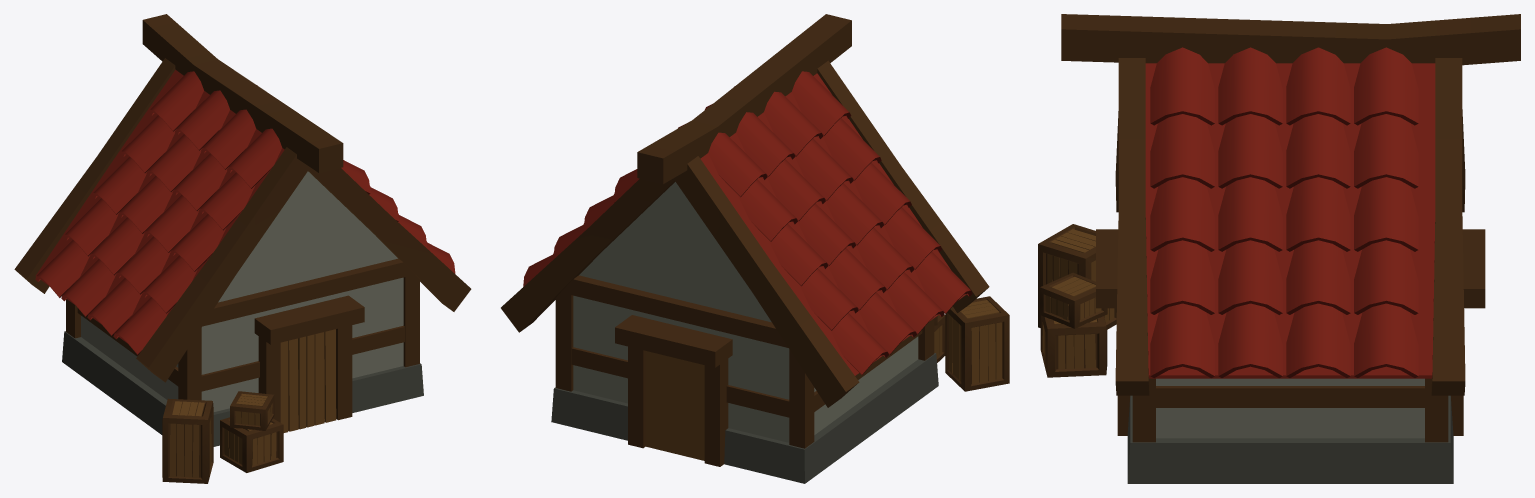
Rendered from Casa.obj.
The picture shows the model from 3 angles, left to right: view 1: azimuth 30°, elevation 25°; view 2: azimuth 150°, elevation 25°; view 3: azimuth 270°, elevation 25°; orthographic projection. The views are drawn at different scales.
Size of the model in its own units: 0.89 by 0.7722 by 0.8645.
